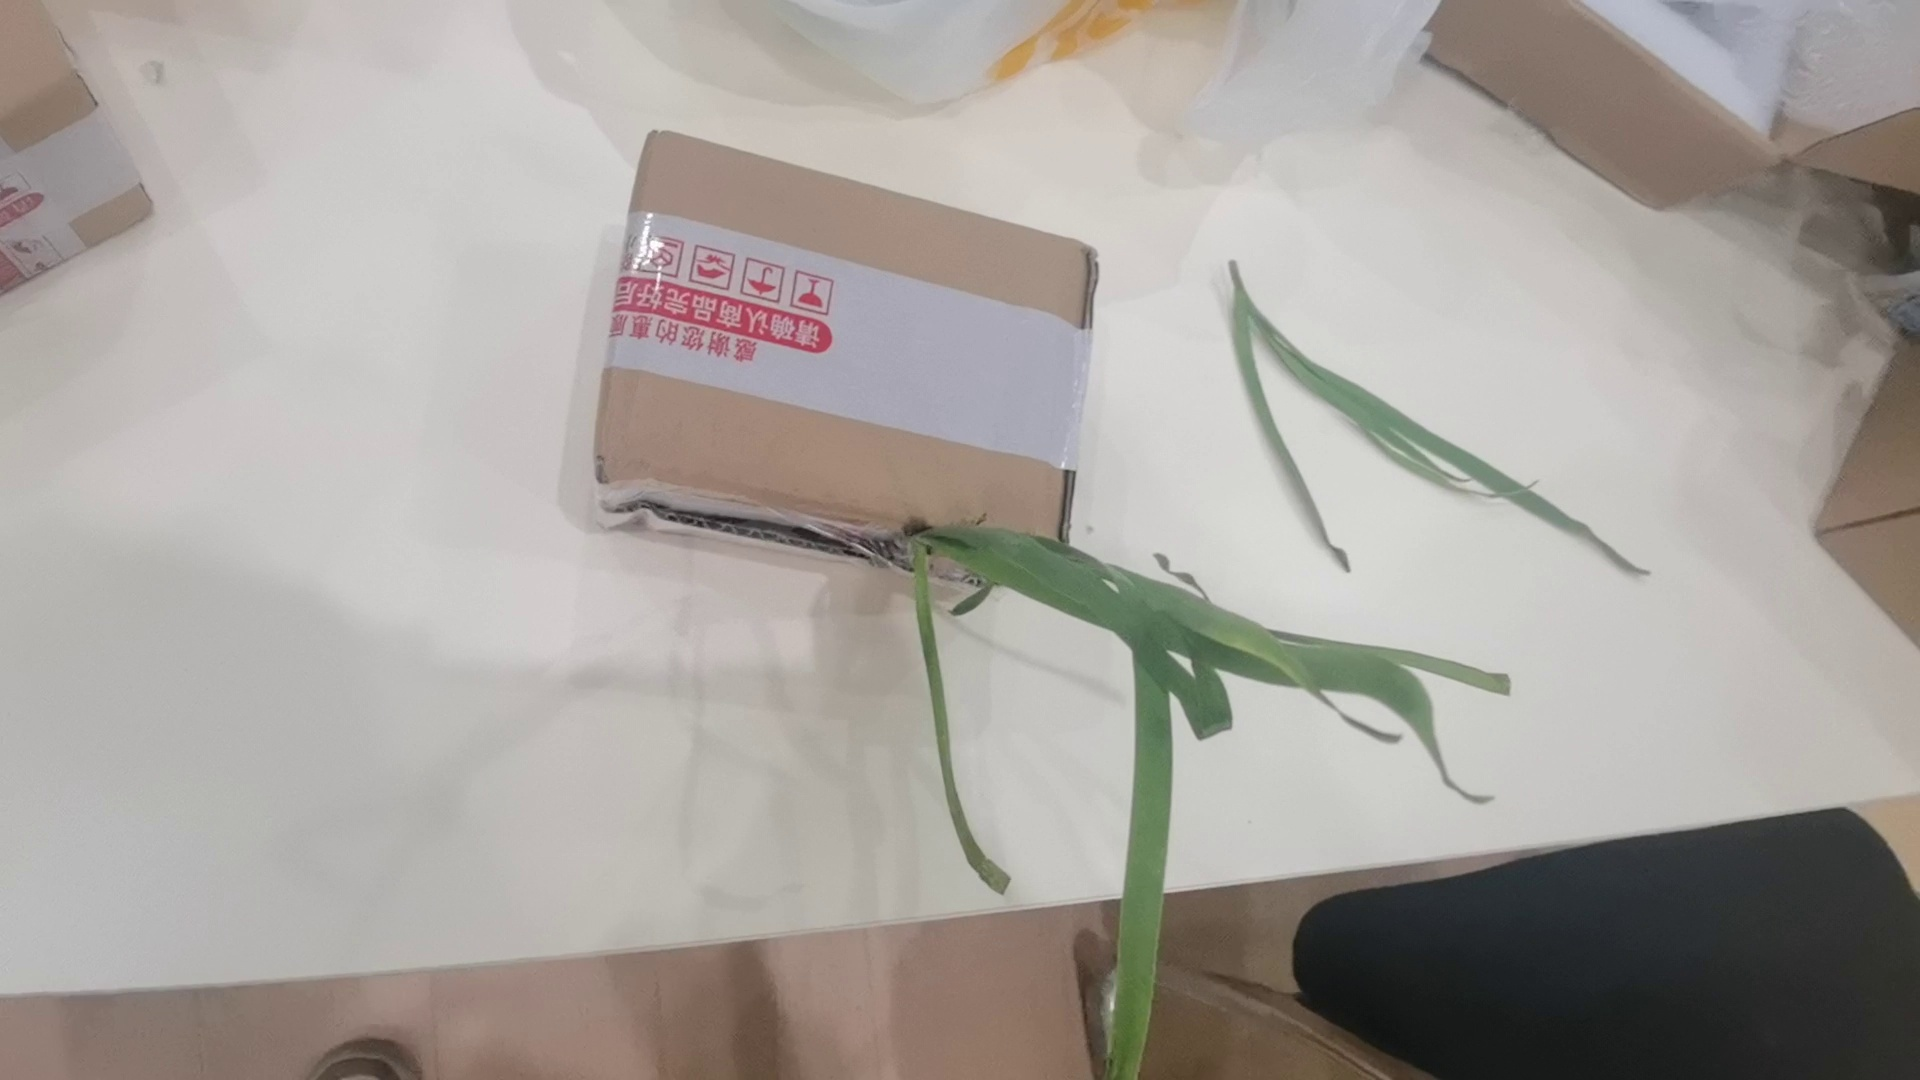chives: (873, 512, 1527, 1080), (1213, 248, 1667, 585)
